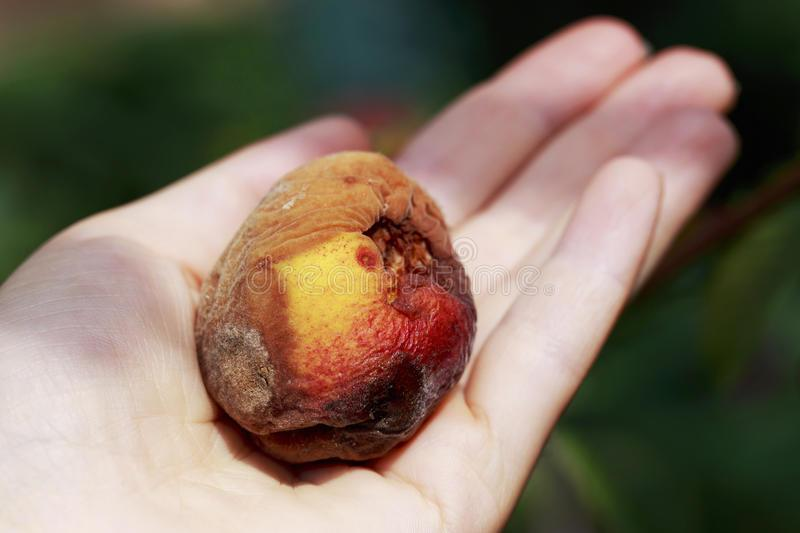Peach Rotten: (196, 152, 476, 462)
